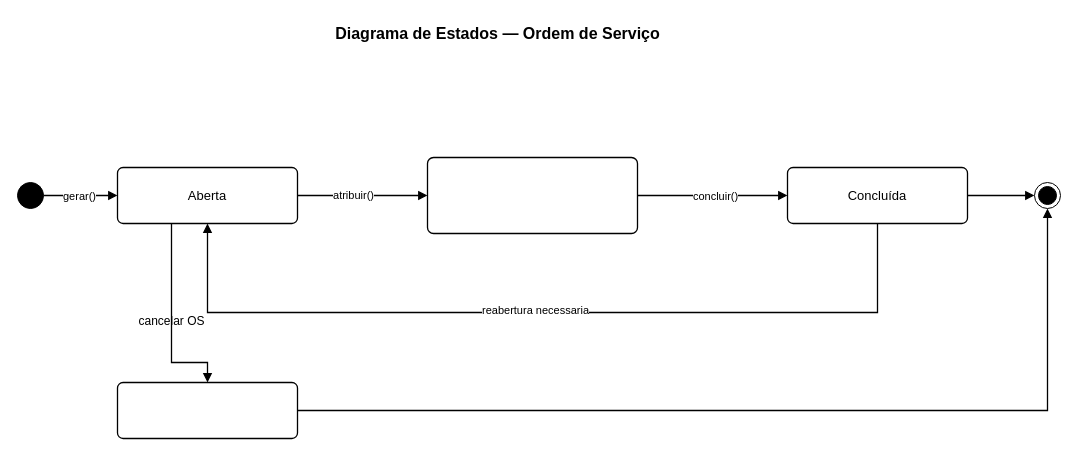
The diagram is 1078 pixels wide and 456 high, and some of its shapes have lost their labels. The centre of each missing label's shape, as x and y in pixels:
"Cancelada" goes at point 207,410.
"Em Atendimento" goes at point 532,195.
